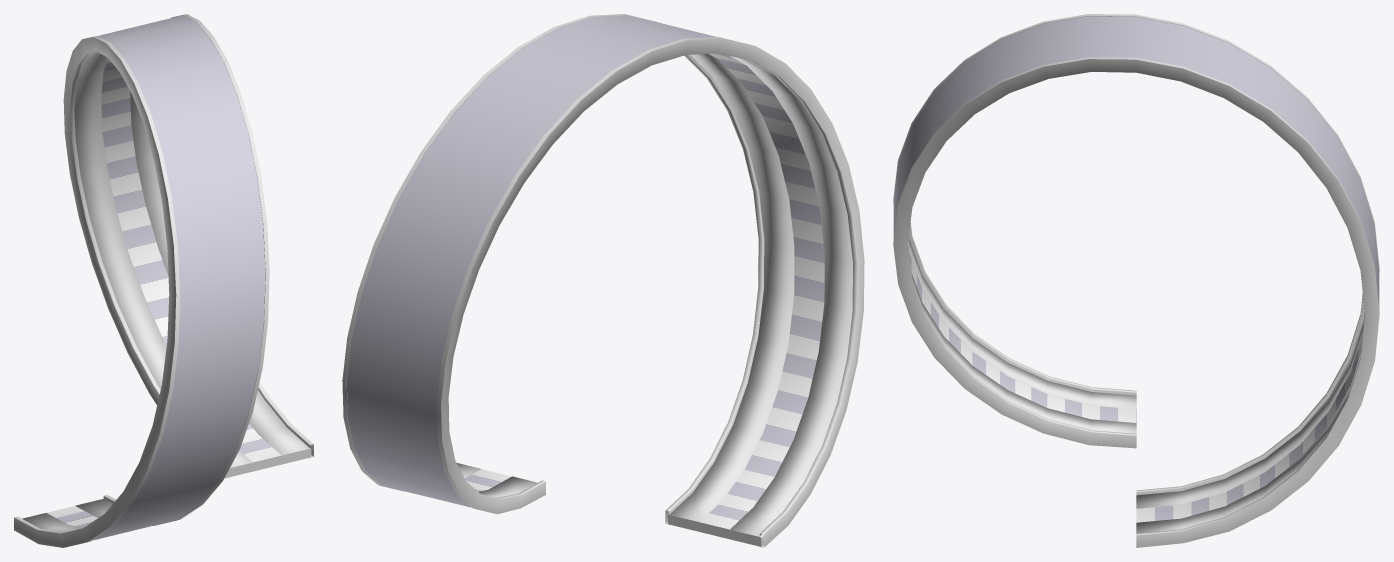
The model's file is spiral_2.fbx.
3 views of the same model, side by side, from view 1: azimuth 30°, elevation 25°; view 2: azimuth 150°, elevation 25°; view 3: azimuth 270°, elevation 25° (orthographic). The views are drawn at different scales.
Parts seen in each view (by area): view 1: Platform_Spiral, Platform_Spiral.001; view 2: Platform_Spiral, Platform_Spiral.001; view 3: Platform_Spiral, Platform_Spiral.001.
Boxes of the visible parts, x1,y1,x2,y2 form: Platform_Spiral: (14, 14, 313, 547); Platform_Spiral.001: (22, 51, 309, 532); Platform_Spiral: (342, 14, 864, 547); Platform_Spiral.001: (457, 54, 852, 536); Platform_Spiral: (893, 14, 1379, 547); Platform_Spiral.001: (908, 237, 1364, 533).
Bounding box in the file's own units: 3082 × 4373 × 4380.
4 materials, 1 textured.
